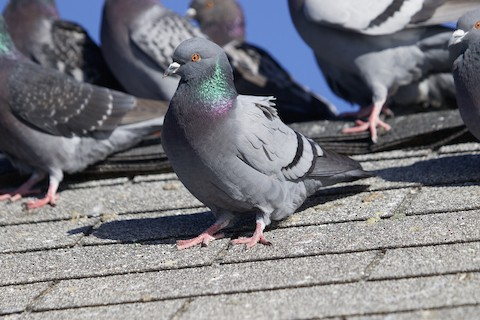pigeon: (159, 34, 380, 253), (4, 27, 195, 216), (95, 2, 328, 133), (437, 6, 476, 161)
